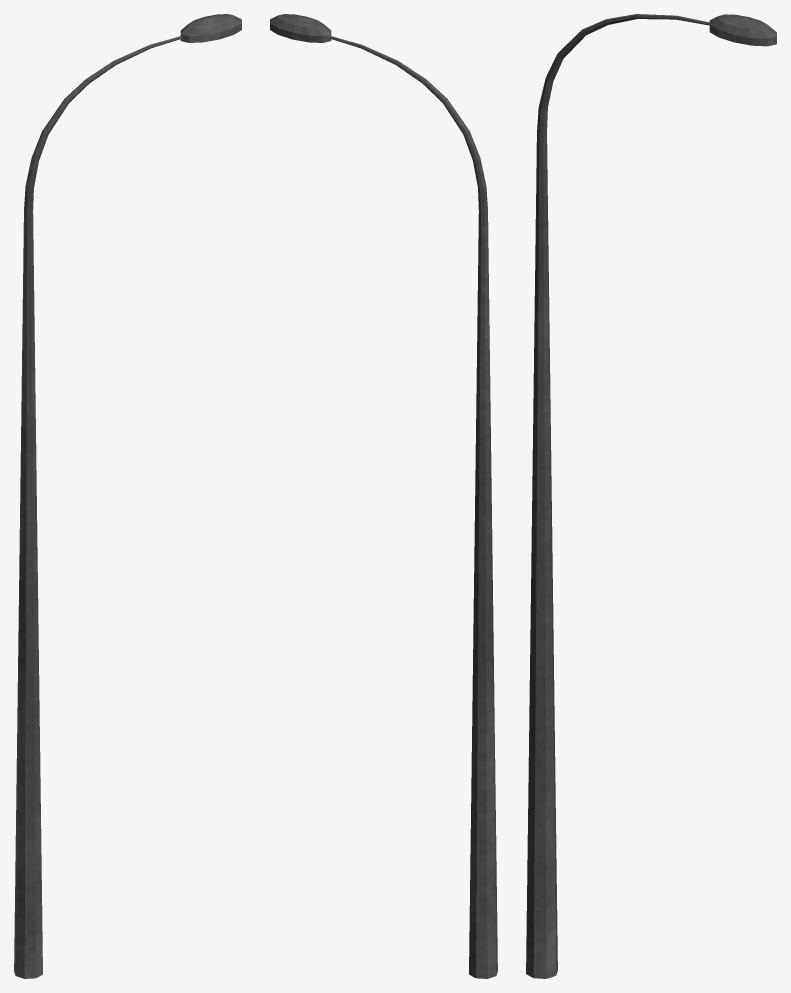
The model's file is Light Pole.fbx.
3 renders of one model, left to right at view 1: azimuth 30°, elevation 25°; view 2: azimuth 150°, elevation 25°; view 3: azimuth 330°, elevation 25°, orthographic. The views are drawn at different scales.
Parts seen in each view (by area): view 1: PosteLuz; view 2: PosteLuz; view 3: PosteLuz.
Part boxes in pixels (<box>): PosteLuz: <box>14,14,241,978</box>; PosteLuz: <box>270,14,497,978</box>; PosteLuz: <box>526,14,776,978</box>.
Bounding box in the file's own units: 226 × 868 × 27.83.
Materials: 1 (1 with a texture image).
